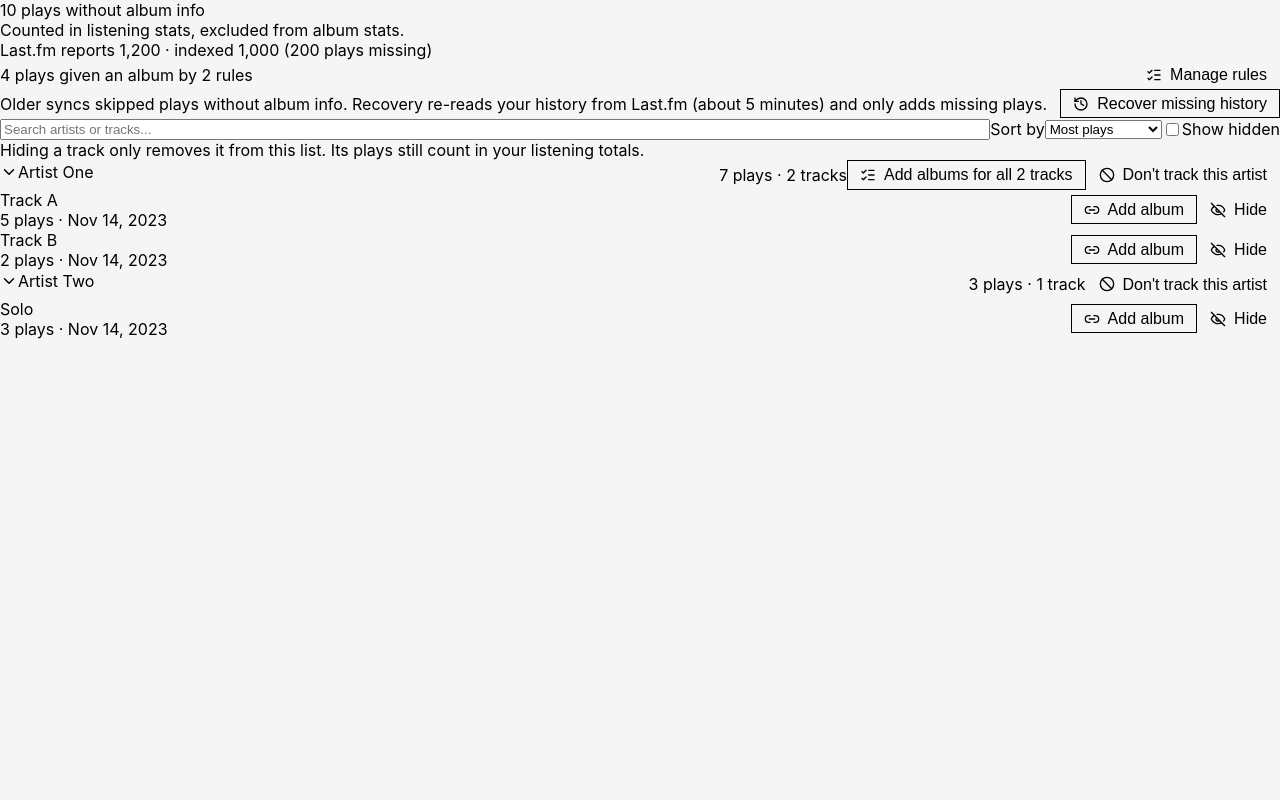
Test case: UnresolvedHistoryTab › warns when the suggested album lacks the track
Click the button "Add album" in the row of "Solo" at (1134, 319), box [1071,304,1197,333]
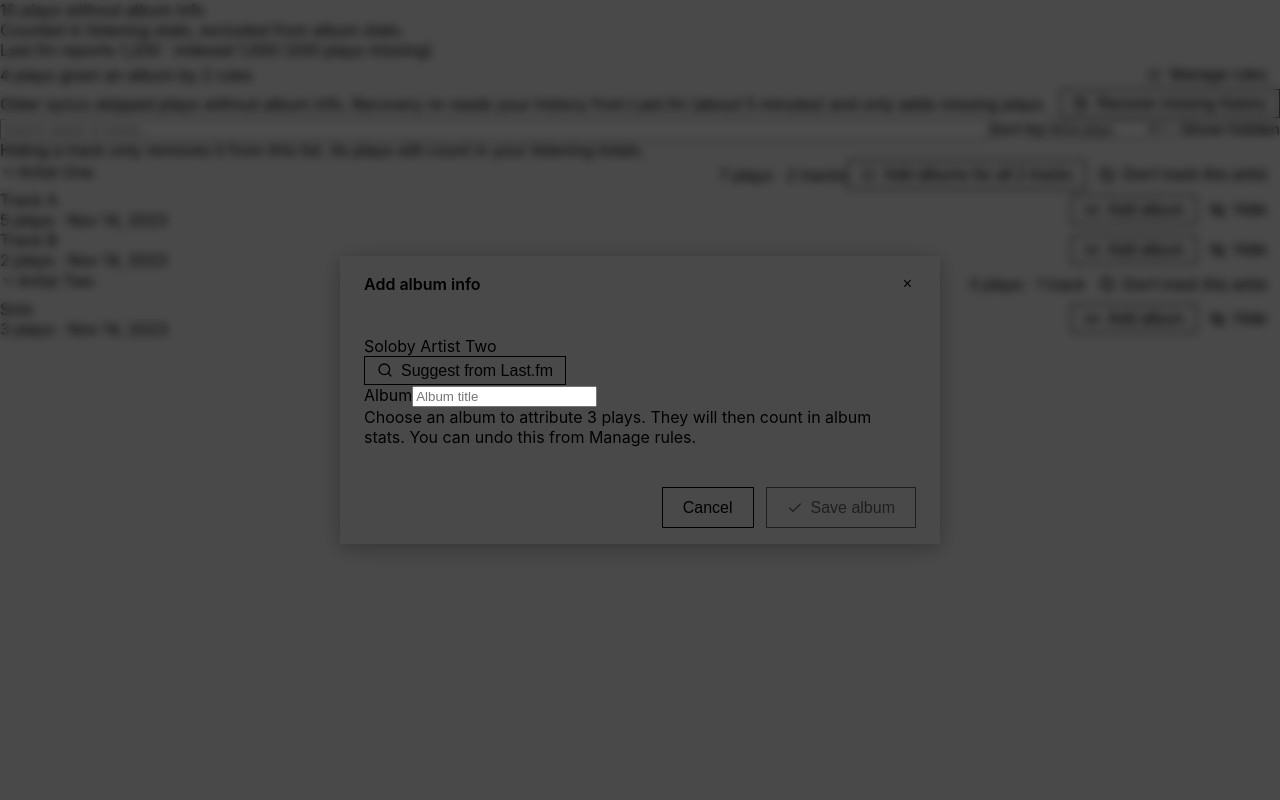
Click the button "Suggest from Last.fm" at (465, 370), box [364,356,566,385]
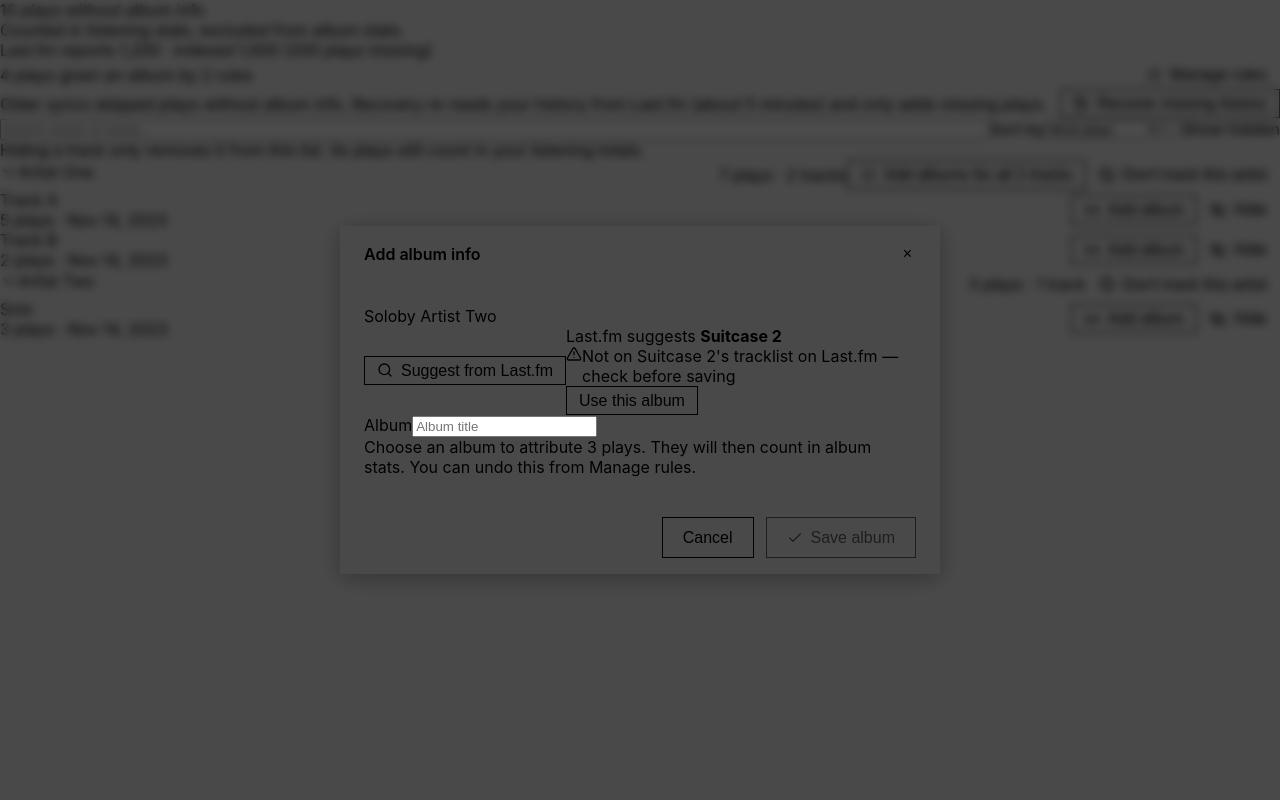
Check: the text "Not on Suitcase 2's tracklist on Last.fm — check before saving" is shown, box [566,346,916,386]
